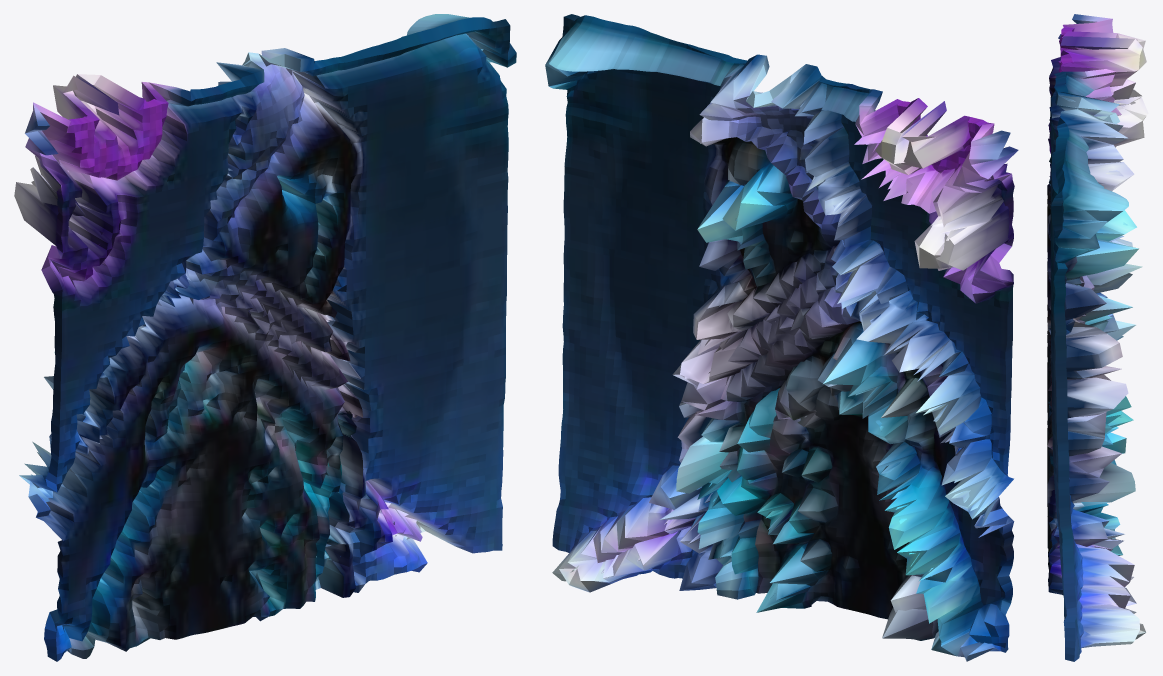
Rendered from infiltrateur-z-relief.glb.
3 renders of one model, left to right at view 1: azimuth 30°, elevation 25°; view 2: azimuth 150°, elevation 25°; view 3: azimuth 270°, elevation 25°, orthographic. The views are drawn at different scales.
Parts seen in each view (by area): view 1: RELIEF_REFERENCE_infiltrateur-z; view 2: RELIEF_REFERENCE_infiltrateur-z; view 3: RELIEF_REFERENCE_infiltrateur-z.
Part boxes in pixels (x1,y1,x2,y2): RELIEF_REFERENCE_infiltrateur-z: (14, 14, 516, 661); RELIEF_REFERENCE_infiltrateur-z: (545, 14, 1018, 661); RELIEF_REFERENCE_infiltrateur-z: (1047, 14, 1148, 661).
Bounding box in the file's own units: 3.14 × 3.54 × 0.6875.
Materials: 1 (1 with a texture image).
